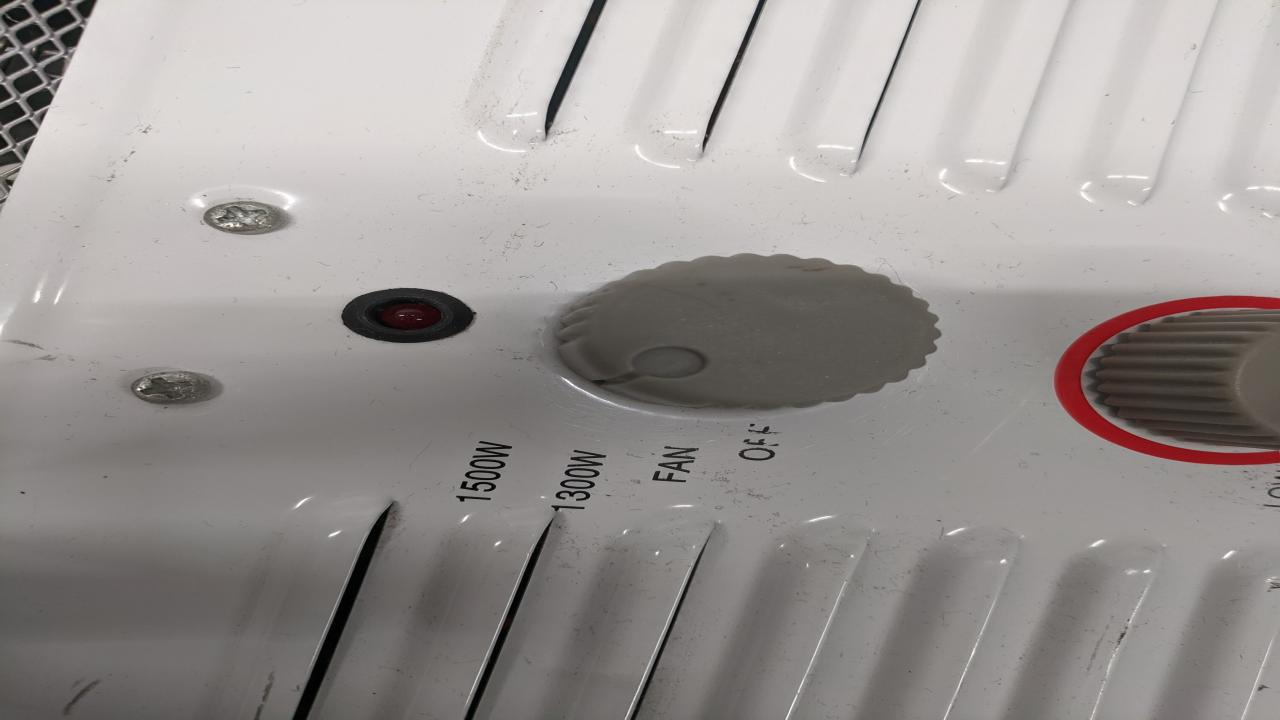CRS: (192, 198, 296, 236), (127, 368, 220, 406)
